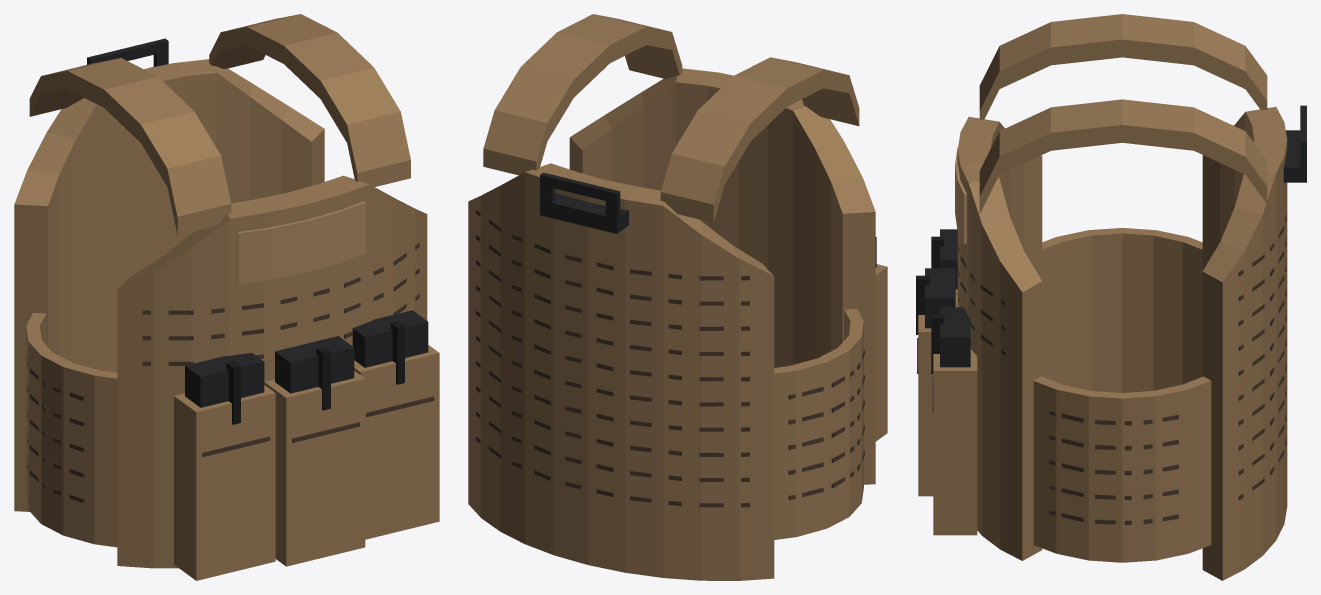
Rendered from tactical-vest.glb.
3 views of the same model, side by side, from view 1: azimuth 30°, elevation 25°; view 2: azimuth 150°, elevation 25°; view 3: azimuth 270°, elevation 25° (orthographic). The views are drawn at different scales.
Visible parts, largest first — view 1: tactical-vest; view 2: tactical-vest; view 3: tactical-vest.
Boxes of the visible parts, x1,y1,x2,y2 form: tactical-vest: (14, 14, 439, 580); tactical-vest: (468, 14, 887, 580); tactical-vest: (916, 14, 1306, 580).
Size of the model in its own units: 0.3685 by 0.44 by 0.356.
1 material, 1 textured.
